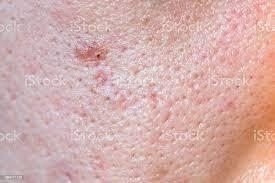Englarged-Pores: (141, 54, 215, 183)
acne marks: (72, 43, 110, 69)
